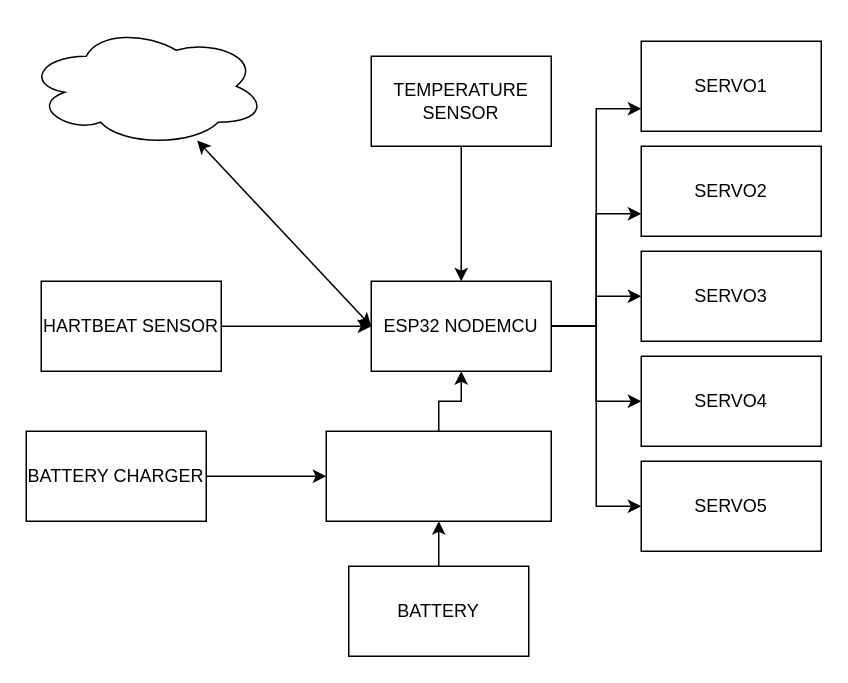
The diagram is 848 pixels wide and 683 high, and some of its shapes have lost their labels. Here are the shapes that lost their labels. From the top down, the centre of each, then its label:
the point at 145,85: BLYNK SERVER
the point at 438,475: BATTERY PROTECTION MODULE
